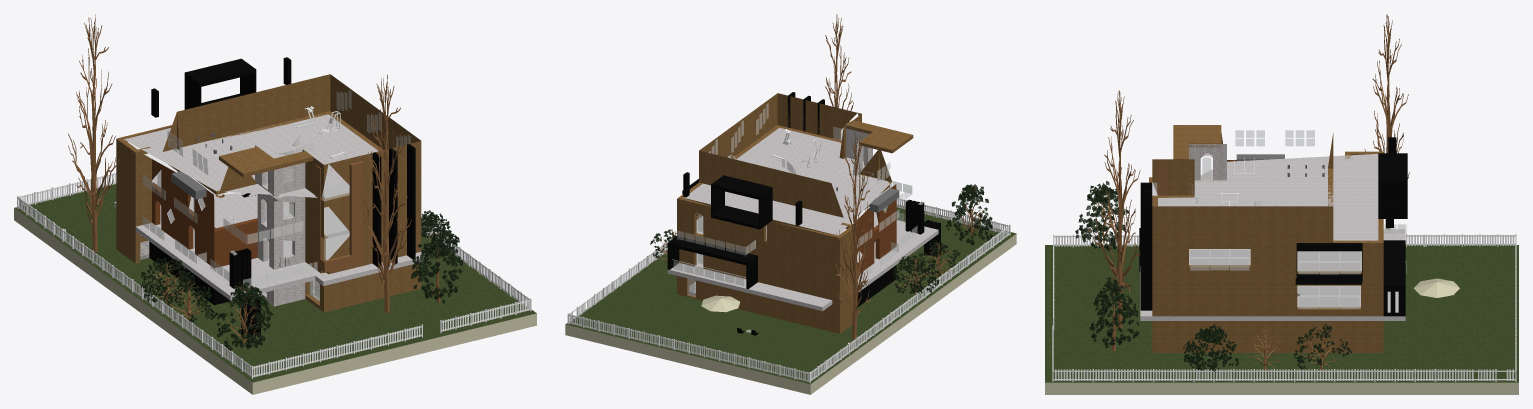
Rendered from modernHouse.glb.
The picture shows the model from 3 angles, left to right: view 1: azimuth 30°, elevation 25°; view 2: azimuth 150°, elevation 25°; view 3: azimuth 270°, elevation 25°; orthographic projection. The views are drawn at different scales.
Parts seen in each view (by area): view 1: Material8, Material17, Material28, Material24, Material7, Material9, Material16, Material2, Material49, Material15, Material12, Material18 (+1 smaller); view 2: Material8, Material17, Material28, Material24, Material9, Material16, Material7, Material2, Material49, Material15, Material12, Material13; view 3: Material17, Material8, Material28, Material24, Material9, Material16, Material7, Material49, Material2, Material12.
Boxes of the visible parts, <box> form: Material8: <box>116,74,421,312</box>; Material17: <box>14,183,536,382</box>; Material28: <box>114,114,427,300</box>; Material24: <box>17,106,531,378</box>; Material7: <box>68,14,440,343</box>; Material9: <box>149,57,415,337</box>; Material16: <box>14,208,536,394</box>; Material2: <box>140,90,410,301</box>; Material49: <box>141,210,462,350</box>; Material15: <box>152,159,257,268</box>; Material12: <box>255,145,305,306</box>; Material18: <box>320,161,363,272</box>; Material8: <box>677,93,913,333</box>; Material17: <box>565,204,1016,384</box>; Material28: <box>667,127,938,311</box>; Material24: <box>567,129,1010,382</box>; Material9: <box>667,92,940,335</box>; Material16: <box>565,234,1016,394</box>; Material7: <box>655,14,987,339</box>; Material2: <box>673,103,917,332</box>; Material49: <box>650,184,992,293</box>; Material15: <box>852,184,896,272</box>; Material12: <box>846,128,872,175</box>; Material13: <box>836,187,899,212</box>; Material17: <box>1045,245,1518,382</box>; Material8: <box>1152,125,1383,352</box>; Material28: <box>1140,154,1405,320</box>; Material24: <box>1052,158,1516,381</box>; Material9: <box>1139,137,1452,316</box>; Material16: <box>1045,278,1518,394</box>; Material7: <box>1087,14,1409,370</box>; Material49: <box>1075,181,1351,371</box>; Material2: <box>1152,130,1405,308</box>; Material12: <box>1189,144,1226,195</box>.
Size of the model in its own units: 12.05 by 9.88 by 17.
21 materials, 10 textured.
